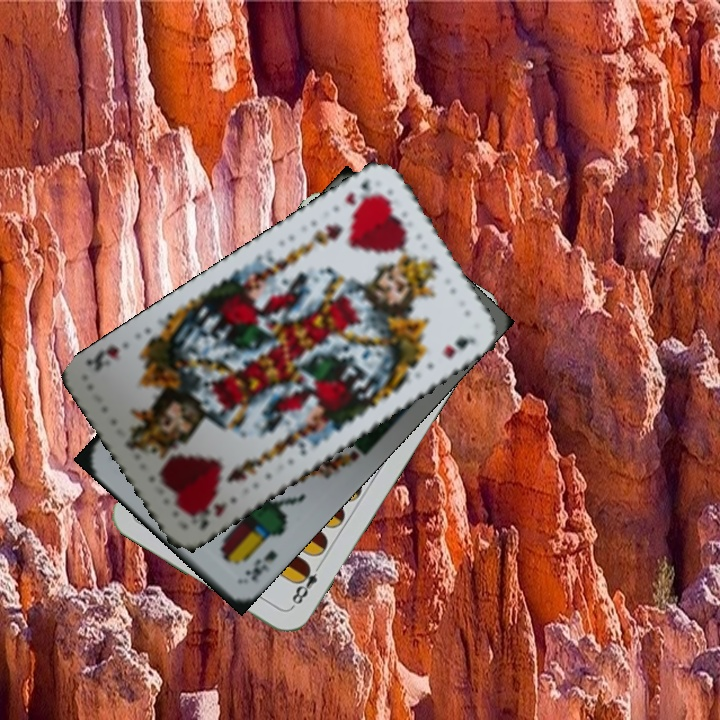E8: (287, 558, 325, 611)
EK: (241, 545, 280, 585)
HK: (342, 176, 384, 215), (195, 494, 229, 533)
